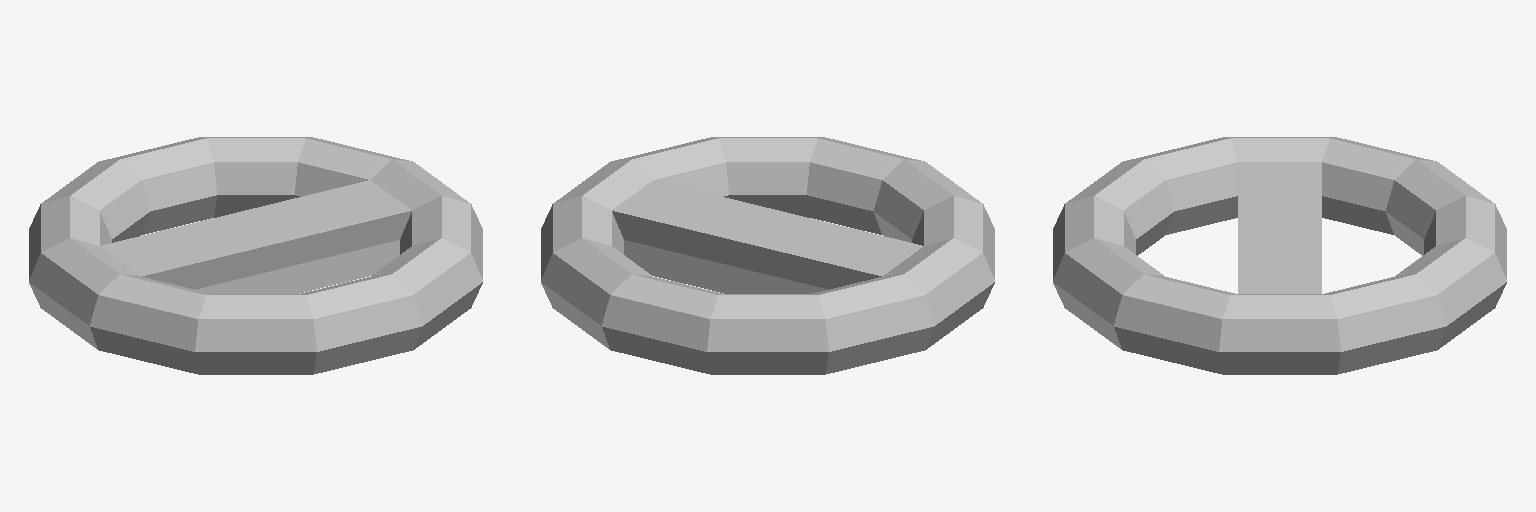
The model's file is steering_wheel.obj.
The picture shows the model from 3 angles: view 1: azimuth 30°, elevation 25°; view 2: azimuth 150°, elevation 25°; view 3: azimuth 270°, elevation 25°; orthographic projection.
Visible parts, largest first — view 1: SteeringWheel; view 2: SteeringWheel; view 3: SteeringWheel.
Part boxes in pixels (left/top/right/bottom): SteeringWheel: left=29, top=137, right=482, bottom=374; SteeringWheel: left=541, top=137, right=994, bottom=374; SteeringWheel: left=1053, top=137, right=1506, bottom=374.
Size of the model in its own units: 2.11 by 0.4 by 2.11.